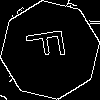F: (25, 25, 75, 62)
